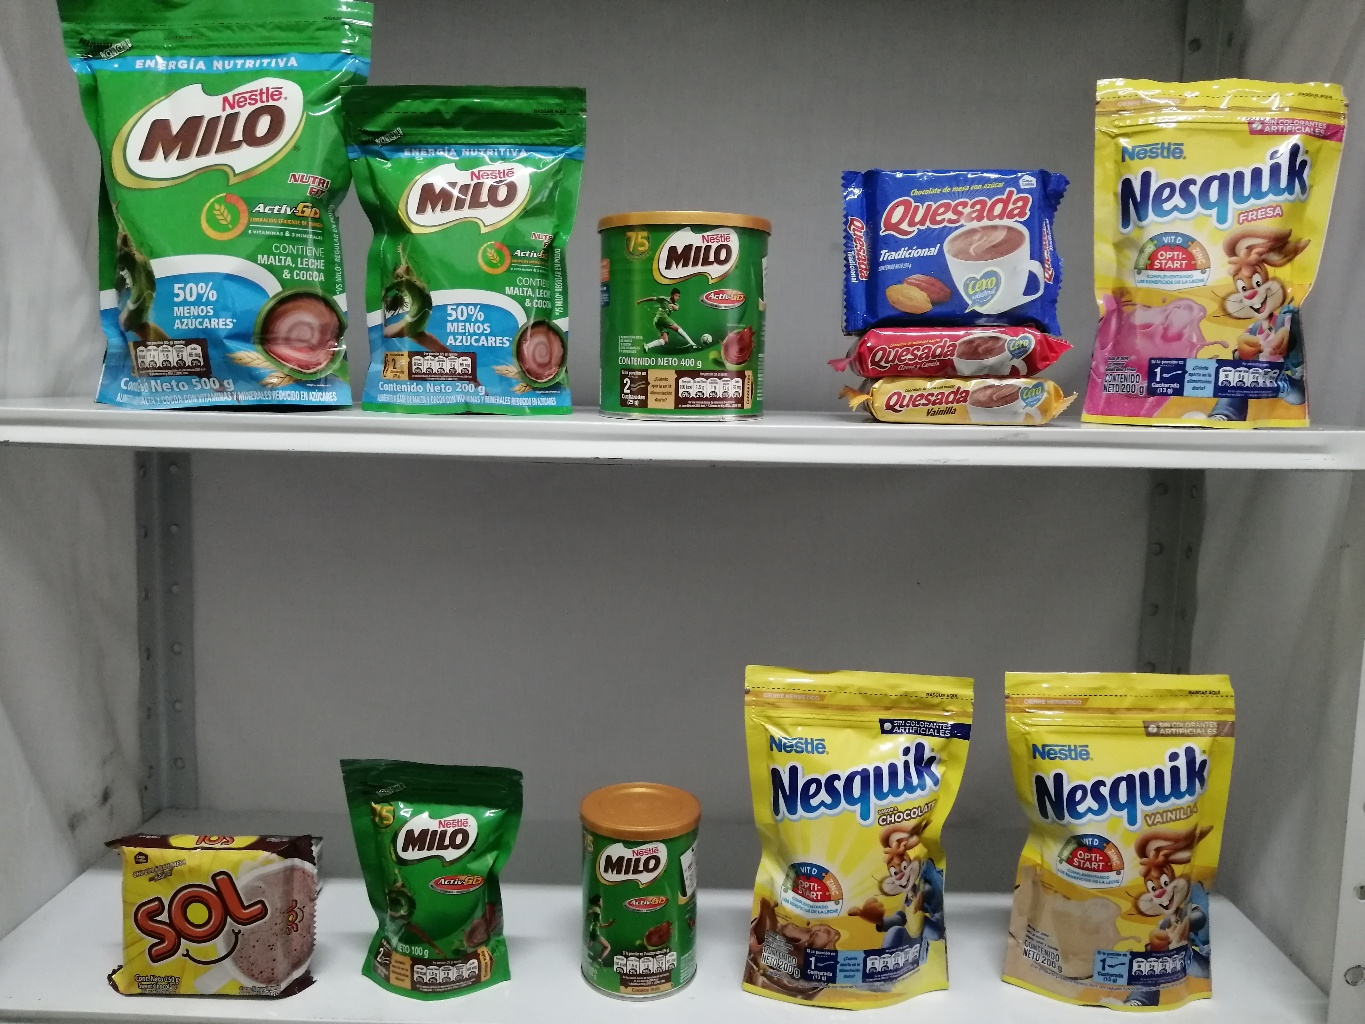COL0170203DYP10000: (336, 748, 530, 1004)
COL0170203LAT20000: (557, 768, 726, 1007)
COL0170203LAT40000: (591, 197, 778, 417)
COL0170205DYP20000: (324, 71, 588, 428)
COL0170205DYP50000: (48, 2, 376, 413)
COL0170303DYP20000: (728, 648, 990, 1014)
COL0170305DYP20000: (1072, 65, 1353, 433)
COL0170306DYP20000: (992, 648, 1251, 1020)
